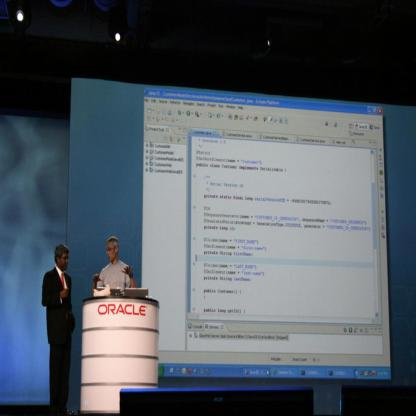board: (124, 288, 148, 300), (97, 287, 120, 296)
